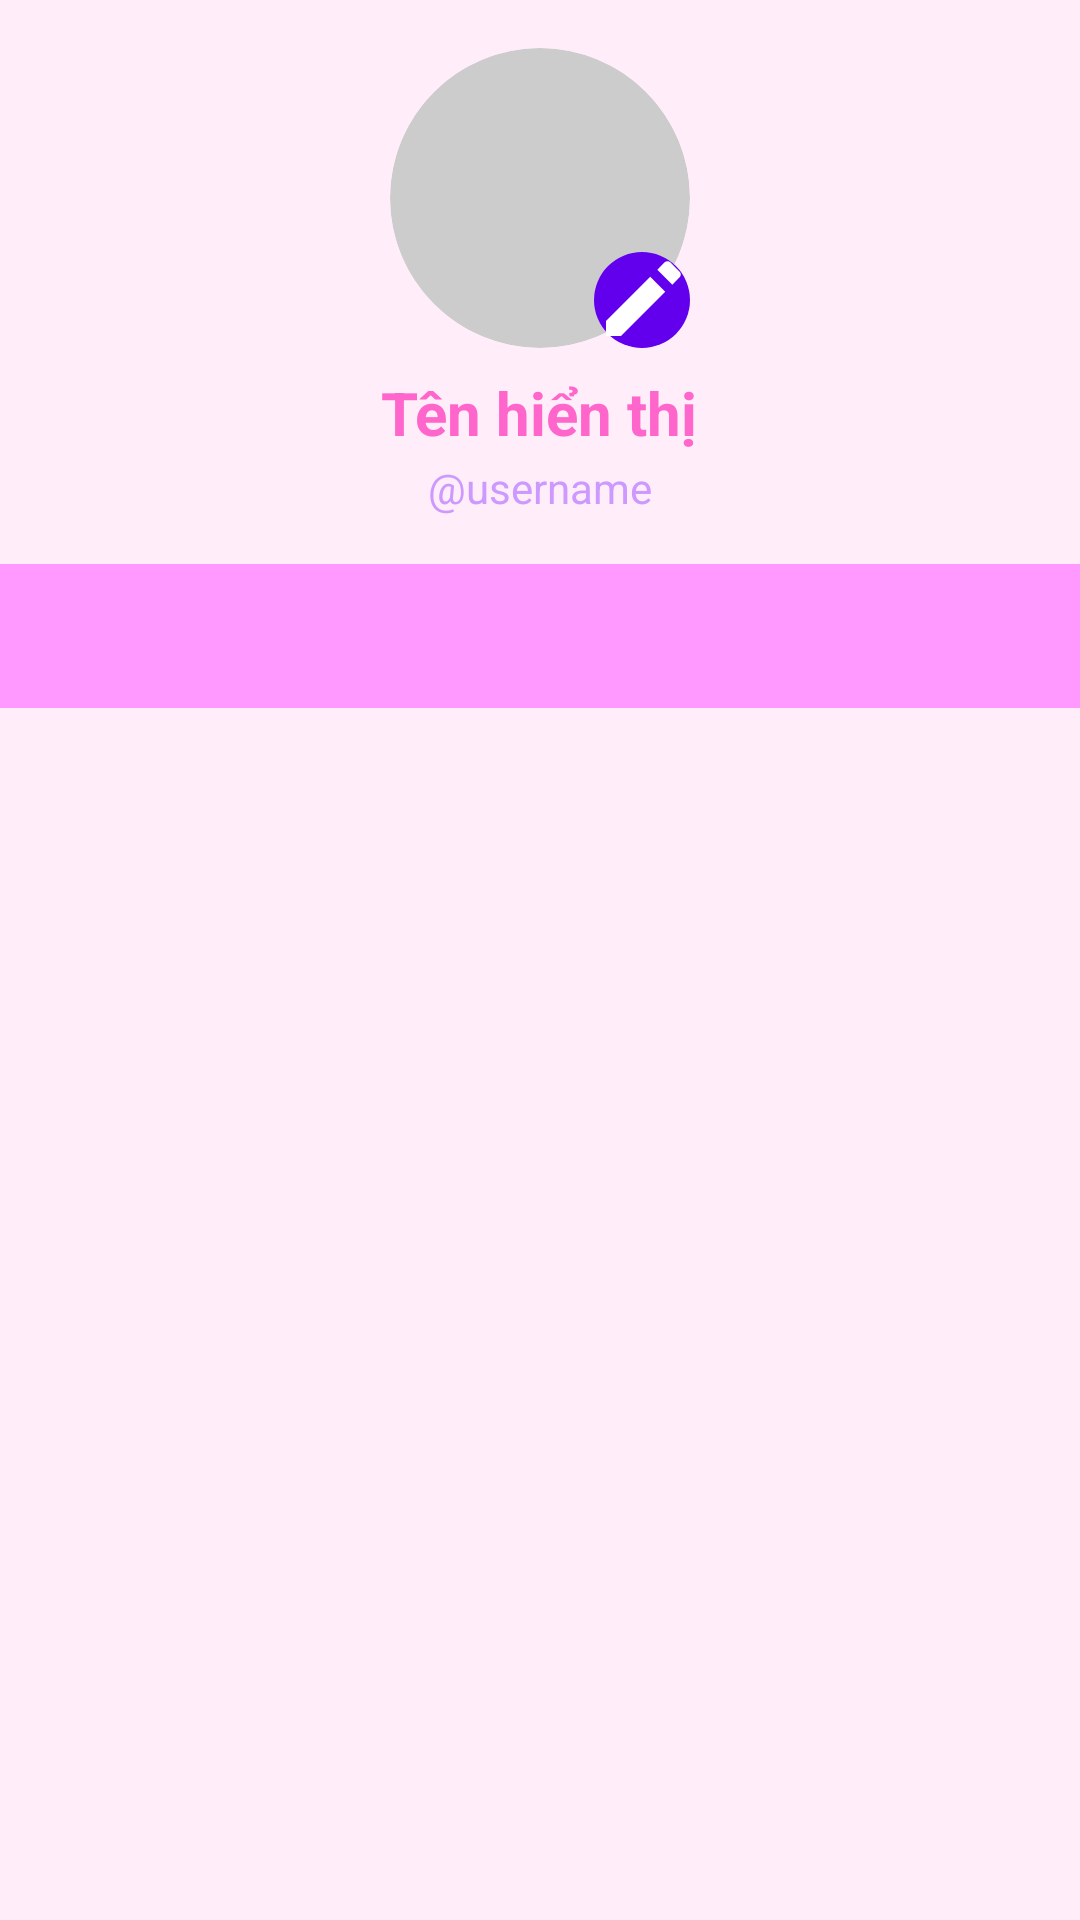

Screen size 1080x1920. Icon name, then its center in pixels as [x,y]:
edit: [642,300]
